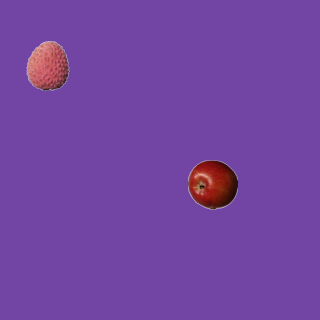Apple Braeburn: (187, 159, 237, 209)
Lychee: (22, 40, 72, 90)
